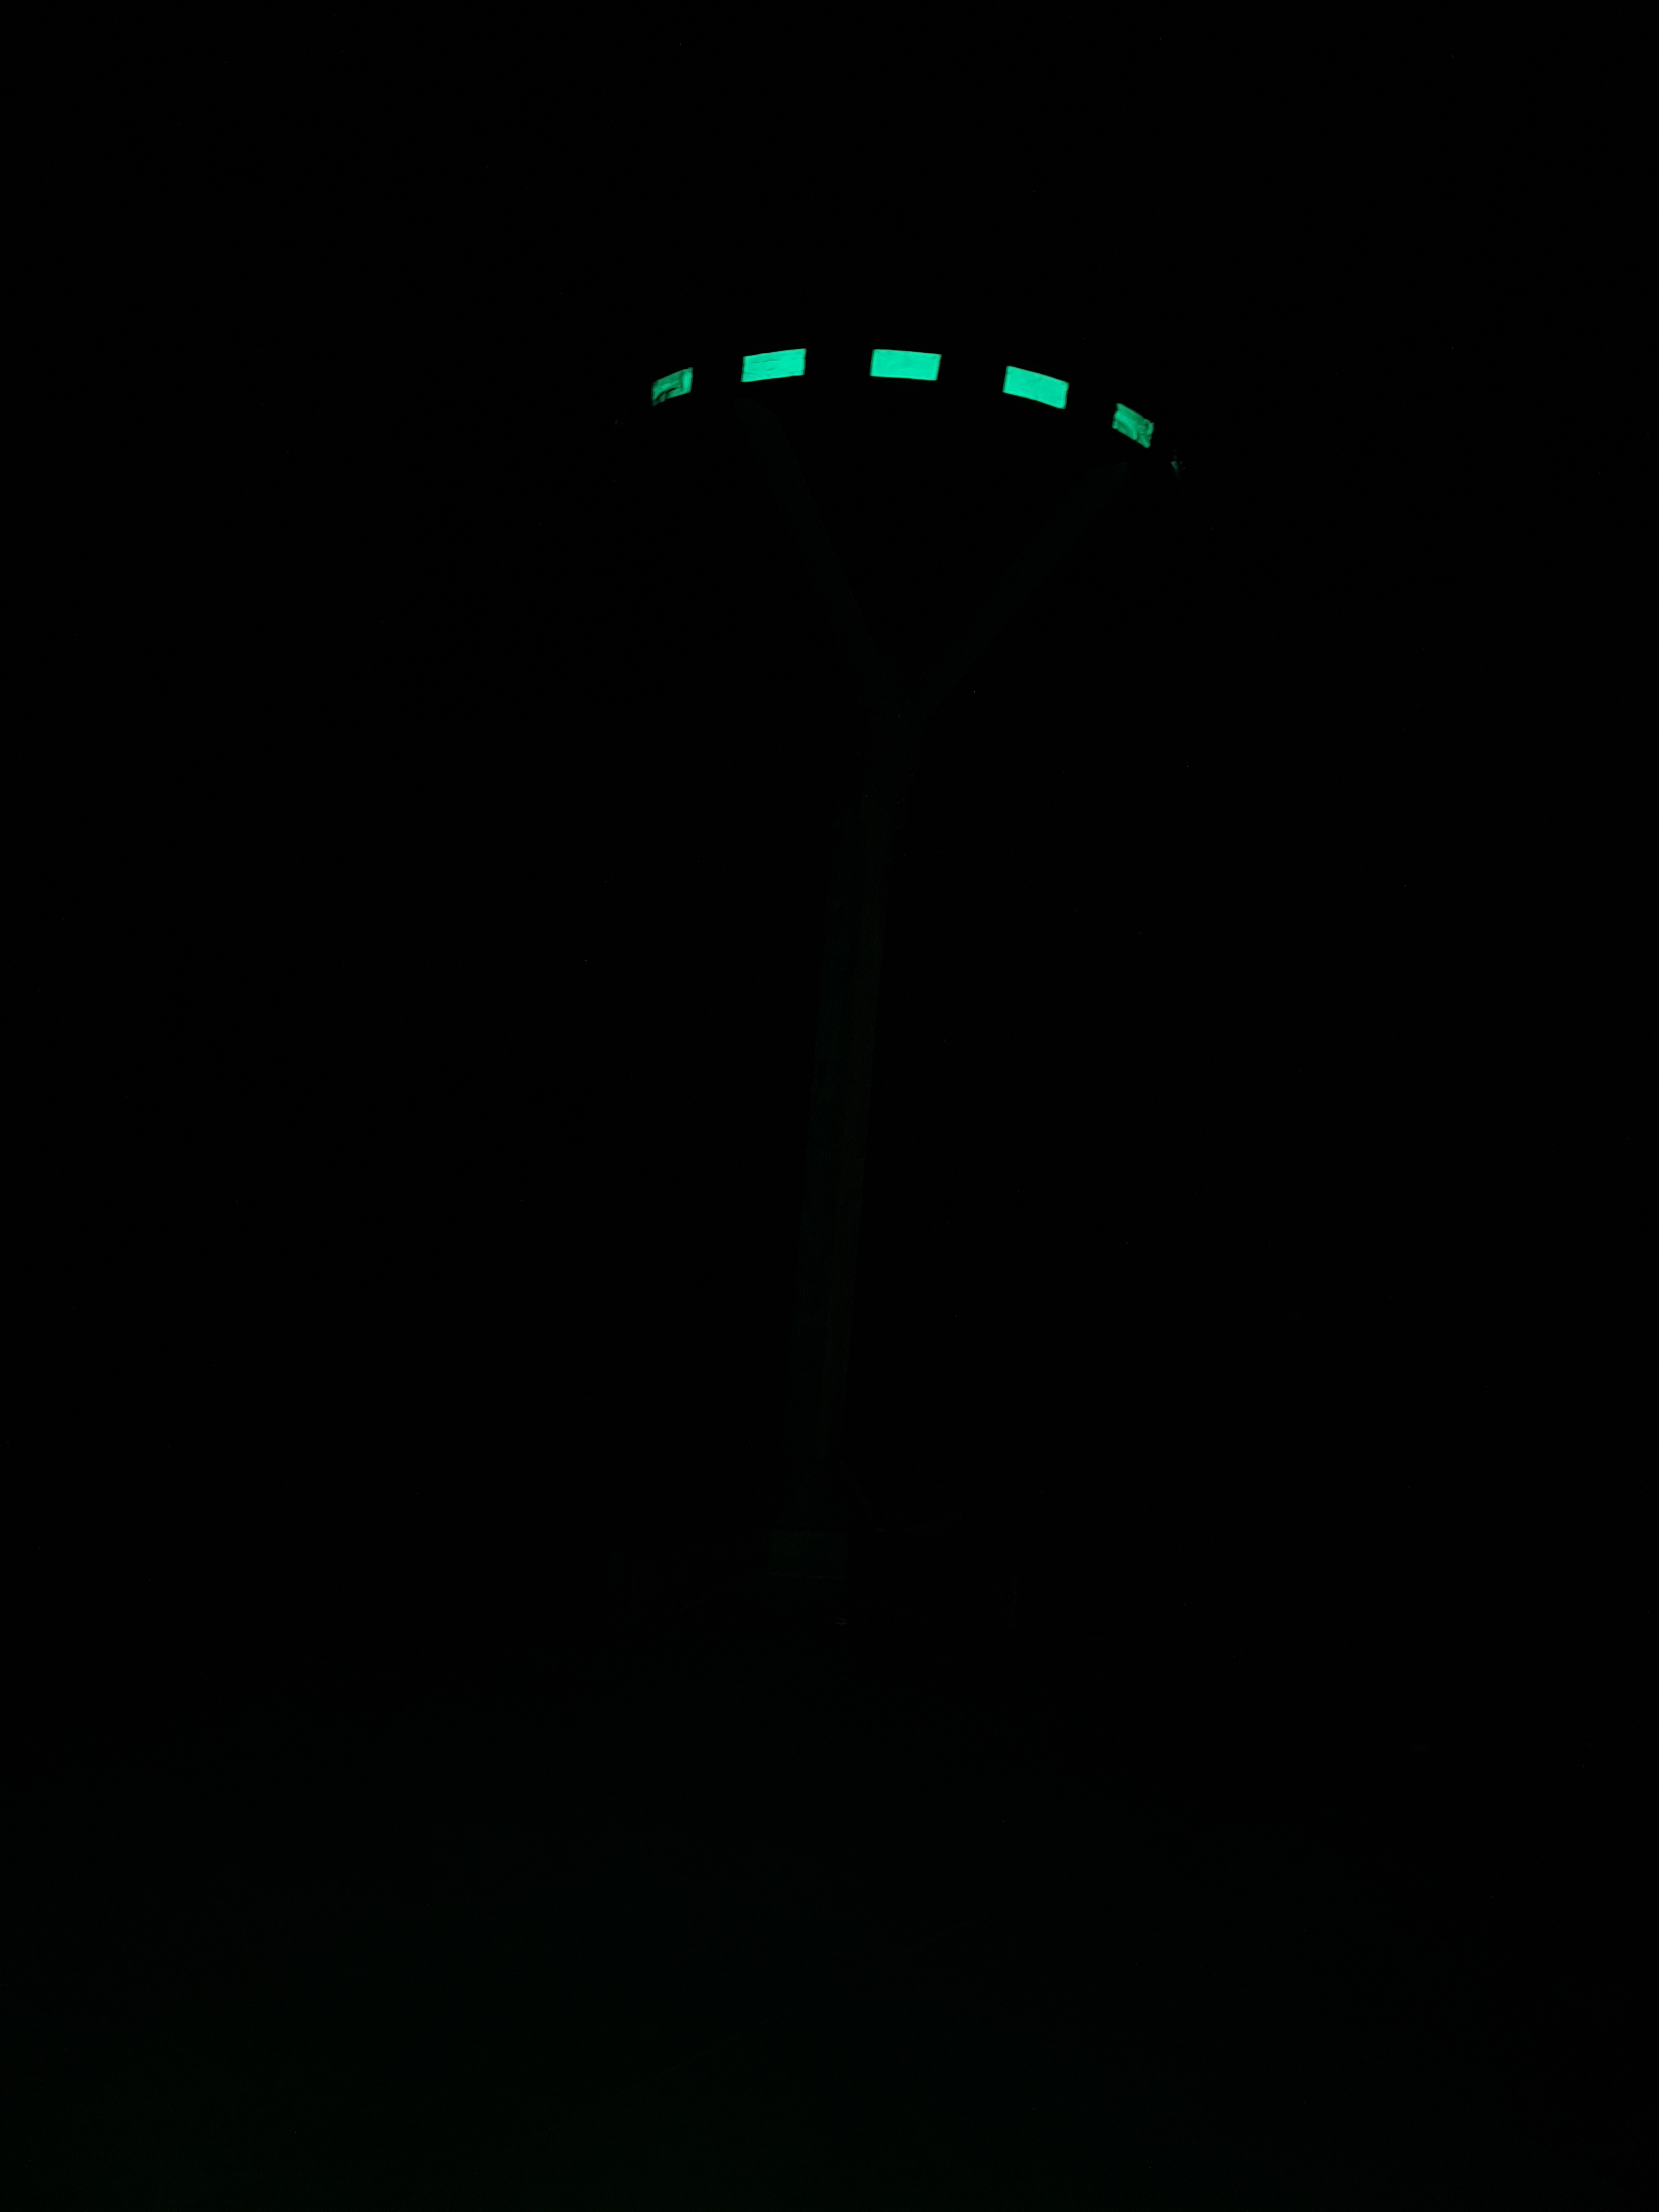hoop: (645, 345, 1148, 449)
